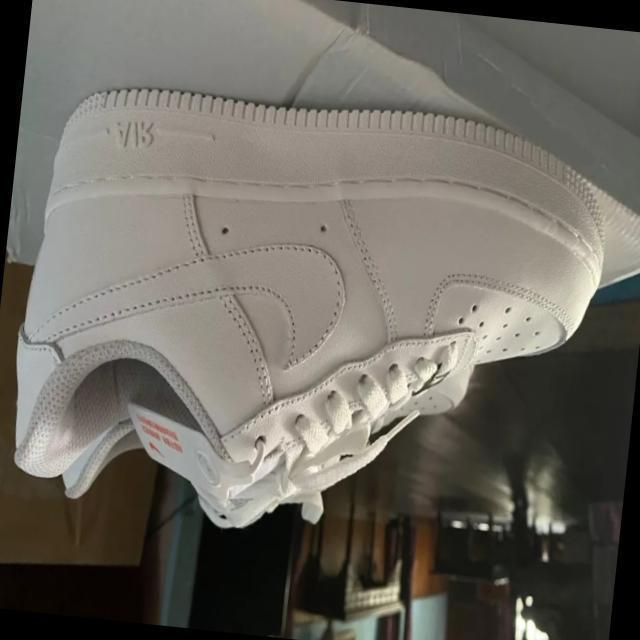nike original air force: (3, 75, 640, 537)
